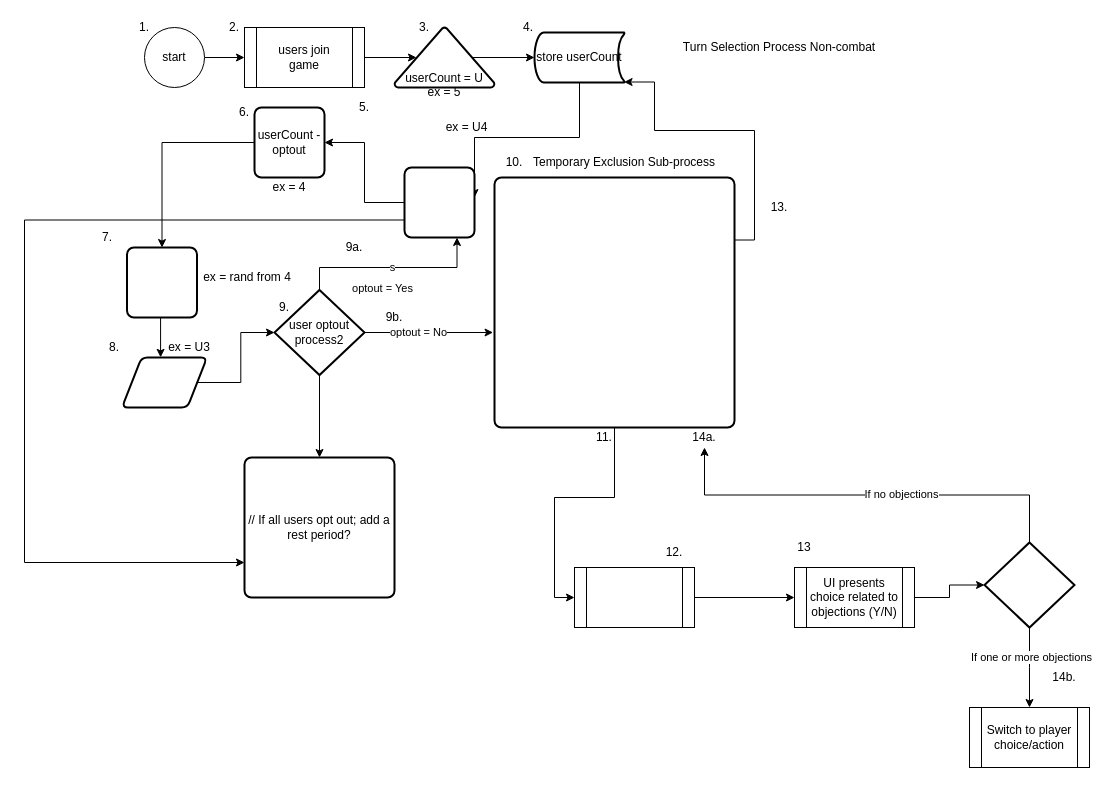
Some shapes in this 1109 by 785 pixel diagram are drawn without their labels. The centre of each missing label's shape, as x and y in pixels:
If any PC's object: (1029,584)
randomfrom userCount: (162,282)
selectedUser: (164,382)
user makes game decision: (634,597)
user optout process: (439,202)
